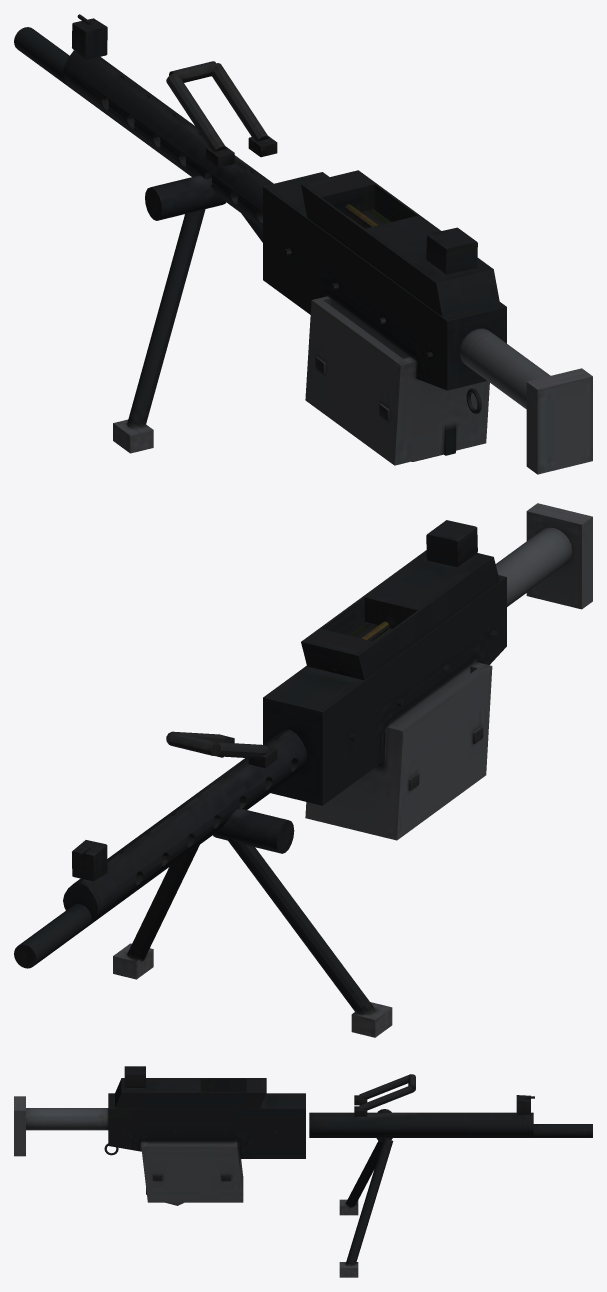
The model's file is W_lmg_m249.glb.
3 views of the same model, one above another, from view 1: azimuth 30°, elevation 25°; view 2: azimuth 150°, elevation 25°; view 3: azimuth 270°, elevation 25° (orthographic). The views are drawn at different scales.
Visible parts, largest first — view 1: W_lmg_m249; view 2: W_lmg_m249; view 3: W_lmg_m249.
Boxes of the visible parts, x1,y1,x2,y2 form: W_lmg_m249: (14, 14, 592, 474); W_lmg_m249: (14, 503, 592, 1037); W_lmg_m249: (14, 1066, 592, 1277).
Bounding box in the file's own units: 0.246 × 0.29 × 0.878.
Materials: 1 (1 with a texture image).
